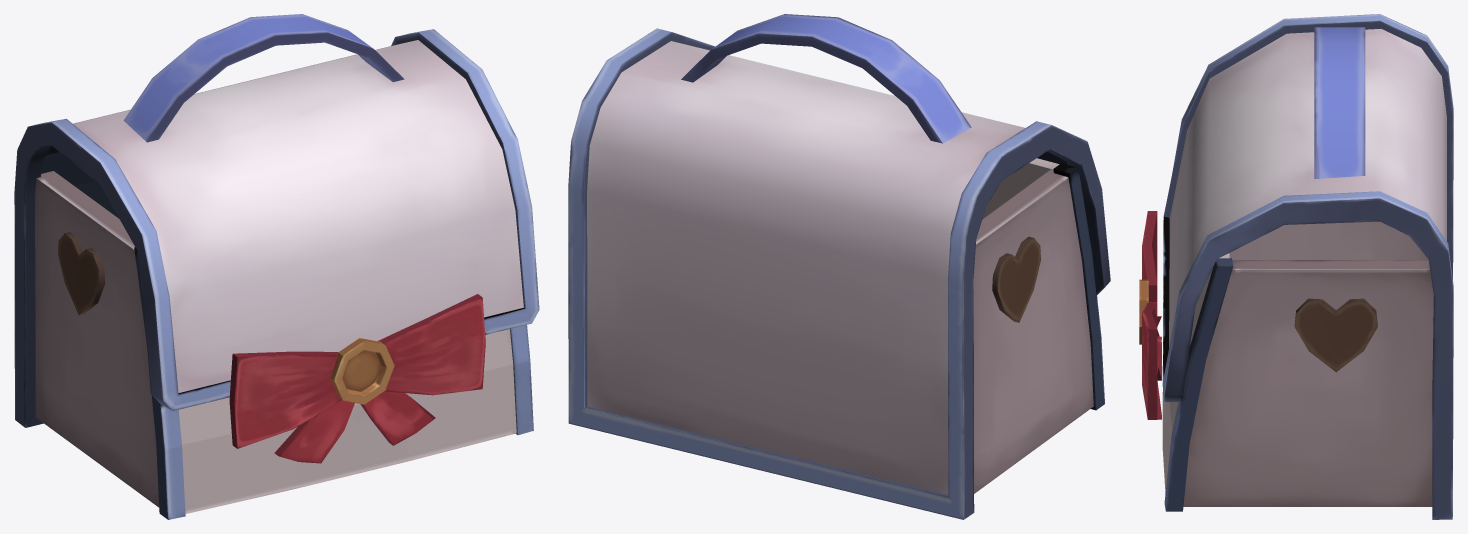
Rendered from handbag.fbx.
3 views of the same model, side by side, from view 1: azimuth 30°, elevation 25°; view 2: azimuth 150°, elevation 25°; view 3: azimuth 270°, elevation 25° (orthographic). The views are drawn at different scales.
Visible parts, largest first — view 1: Object001; view 2: Object001; view 3: Object001.
Boxes of the visible parts, x1=… form: Object001: x1=14, y1=14, x2=539, y2=519; Object001: x1=568, y1=14, x2=1110, y2=519; Object001: x1=1139, y1=14, x2=1453, y2=519.
Size of the model in its own units: 45.82 by 44.59 by 33.01.
